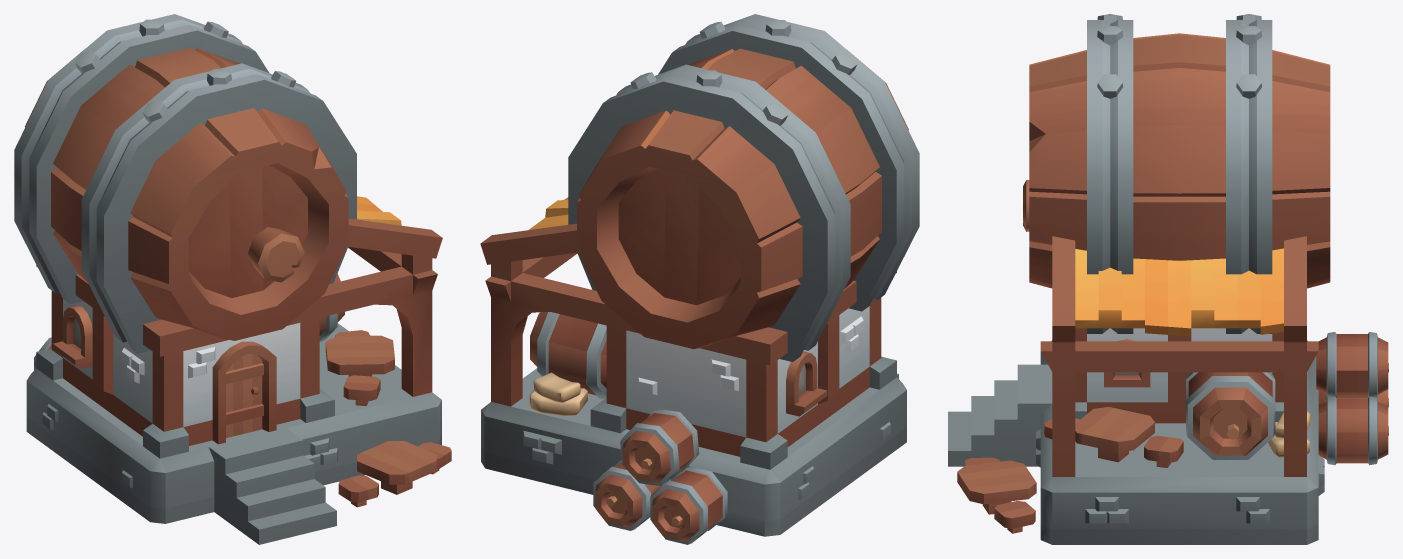
File: kay-taverna-amarela.gltf
The picture shows the model from 3 angles, left to right: view 1: azimuth 30°, elevation 25°; view 2: azimuth 150°, elevation 25°; view 3: azimuth 270°, elevation 25°; orthographic projection. The views are drawn at different scales.
Parts seen in each view (by area): view 1: building_tavern_yellow; view 2: building_tavern_yellow; view 3: building_tavern_yellow.
Part boxes in pixels (bbox=[...]): building_tavern_yellow: bbox=[14, 14, 451, 544]; building_tavern_yellow: bbox=[480, 14, 919, 544]; building_tavern_yellow: bbox=[948, 14, 1388, 544].
Size of the model in its own units: 5.86 by 6.98 by 6.66.
1 material, 1 textured.
